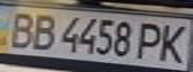4: (75, 15, 100, 55), (57, 14, 81, 54)
5: (93, 16, 118, 56)
8: (112, 18, 139, 58)
B: (3, 9, 39, 50), (27, 11, 60, 52)
K: (154, 20, 193, 64)
P: (133, 20, 166, 61)
